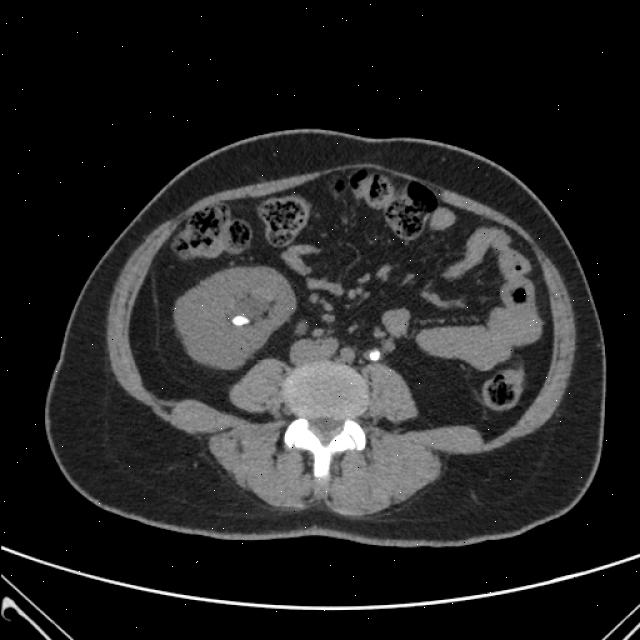kidneystone: (232, 316, 250, 326), (368, 350, 379, 361)
